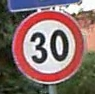limite 30: (10, 9, 84, 84)
